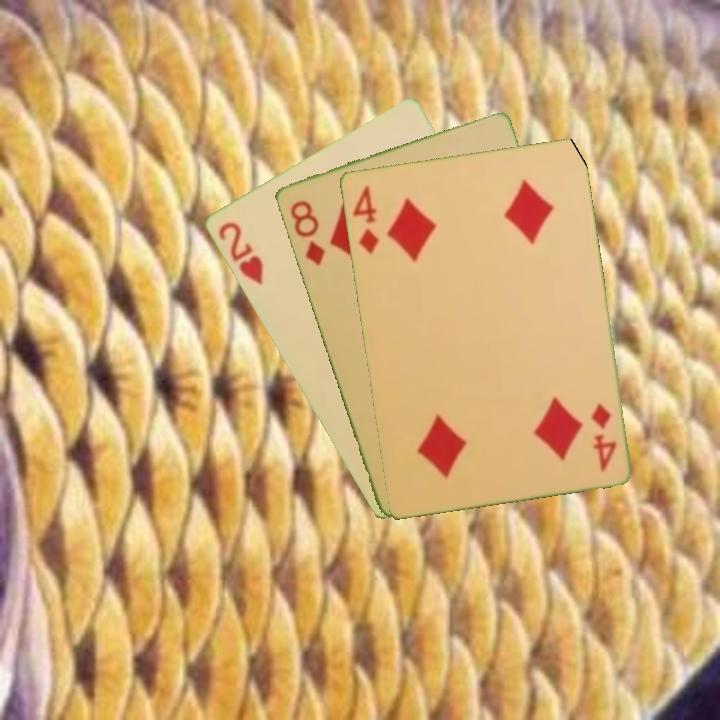2h: (214, 218, 266, 288)
4d: (348, 181, 381, 257), (587, 400, 619, 474)
8d: (286, 196, 327, 269)
